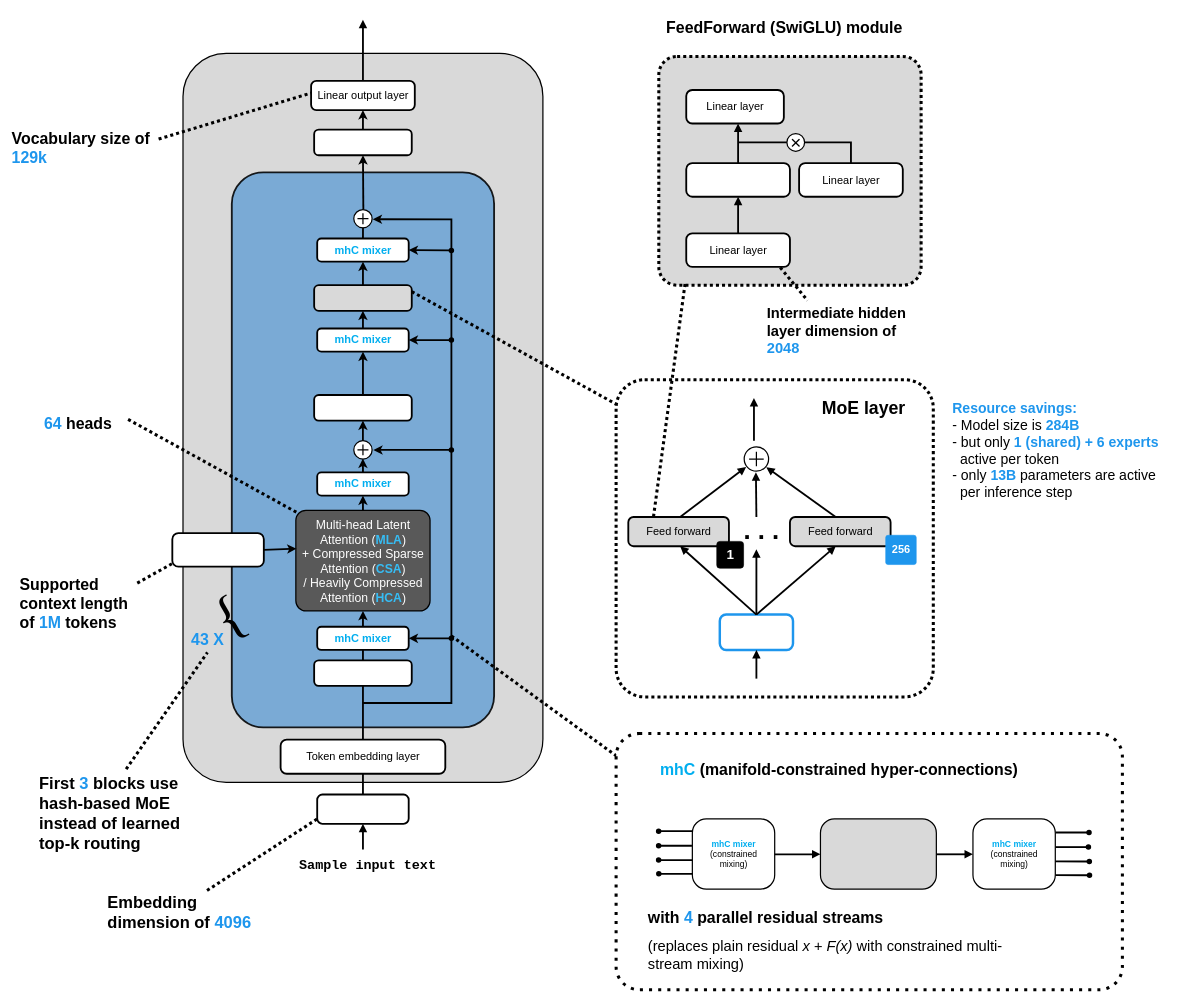
Some shapes in this 1186 by 1002 pixel diagram are drawn without their labels. Here are the shapes that lost their labels. From the top down, the centre of each, then its label:
At [362,142]: "Final RMSNorm".
At [738,179]: "SiLU activation".
At [362,297]: "MoE".
At [362,407]: "RMSNorm 2".
At [217,549]: "RoPE".
At [756,632]: "Router".
At [362,673]: "RMSNorm 1".
At [362,808]: "Tokenized text".
At [878,853]: "Sublayer (attention or MoE)".
